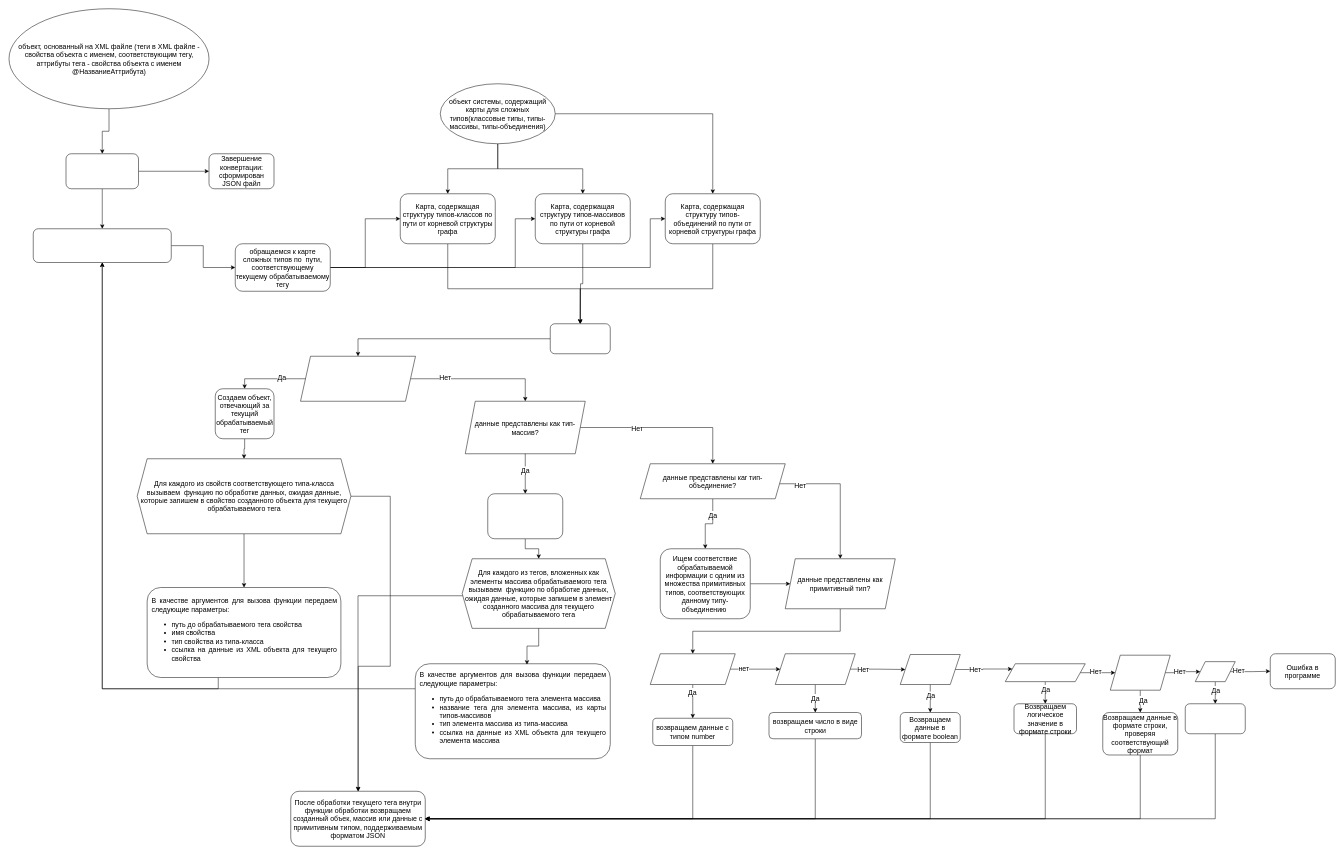
Image size: 1344x855. Some labels were removed from this diagram. The shapes that lost their labels are listed below. From the top down, each one's box as (x1, y1, x2, y2) in pixels, then its label:
(66, 153, 138, 189): Ищем тип, соответствующий корневому тегу
(33, 228, 171, 262): Записываемый текущий путь до обрабатываемого тега
(550, 323, 610, 354): Полученная структура сложного типа
(300, 356, 416, 401): даные представлены как тип-класс?
(487, 493, 563, 539): Создаем массив, отвечающий за текущий обрабатываемый тег массива
(650, 653, 735, 684): integer double
(775, 653, 855, 684): integer-string
(900, 654, 960, 684): bool
(1005, 663, 1085, 682): bool-string
(1110, 655, 1170, 690): date date-time uri string
(1195, 661, 1235, 682): null
(1185, 703, 1245, 734): Возвращаем null
